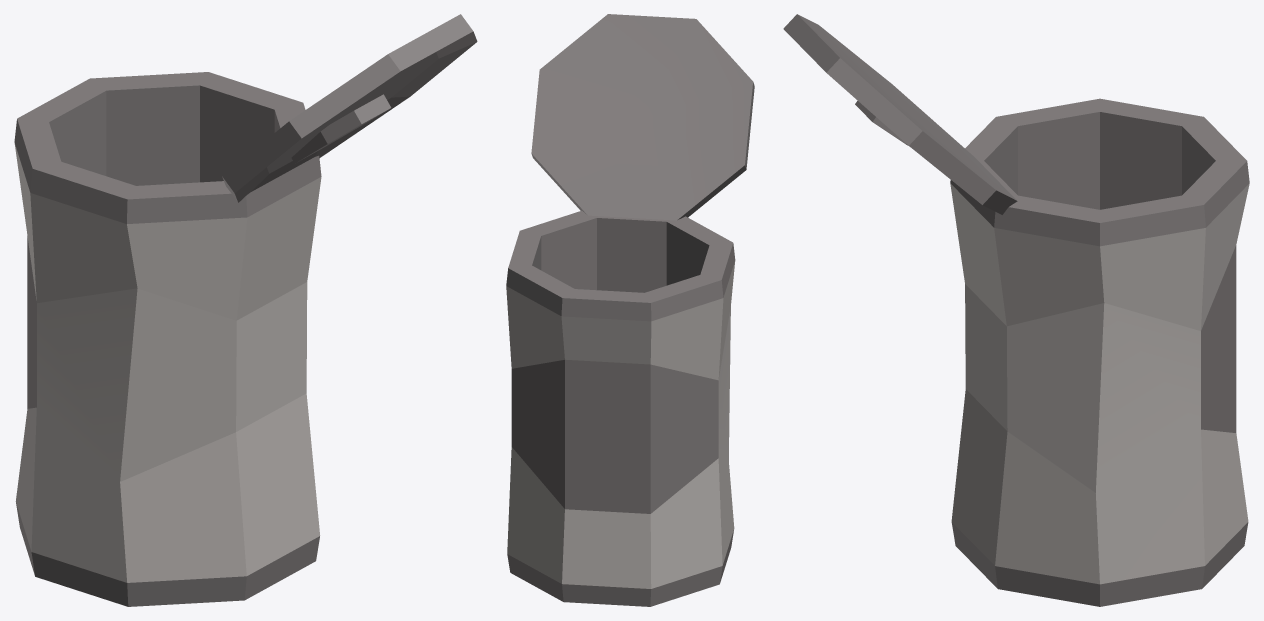
Rendered from can_open_interactable.fbx.
3 views of the same model, side by side, from view 1: azimuth 30°, elevation 25°; view 2: azimuth 150°, elevation 25°; view 3: azimuth 270°, elevation 25° (orthographic). The views are drawn at different scales.
Parts seen in each view (by area): view 1: can_open_interactable; view 2: can_open_interactable; view 3: can_open_interactable.
Boxes of the visible parts, bbox=[...] form: can_open_interactable: bbox=[14, 14, 477, 606]; can_open_interactable: bbox=[506, 14, 754, 606]; can_open_interactable: bbox=[783, 14, 1249, 606].
Size of the model in its own units: 66.1 by 108 by 81.99.
